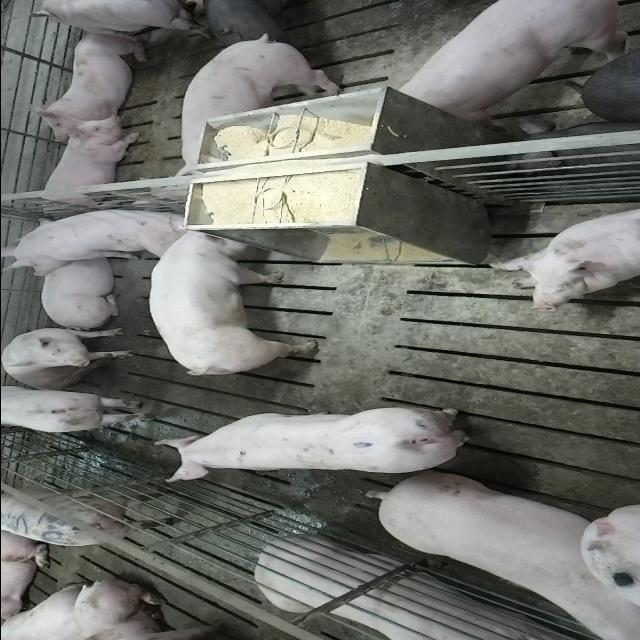Feeding: (142, 224, 330, 372)
Sitting: (0, 205, 185, 274), (1, 326, 135, 390)
Standing: (393, 2, 628, 124), (151, 406, 478, 484), (174, 30, 334, 126), (2, 482, 175, 549), (2, 384, 151, 436), (22, 0, 206, 34), (201, 0, 321, 43)
Sternal_lying: (248, 539, 576, 640), (480, 203, 640, 310), (19, 30, 146, 138), (30, 118, 140, 214), (32, 254, 122, 327)
